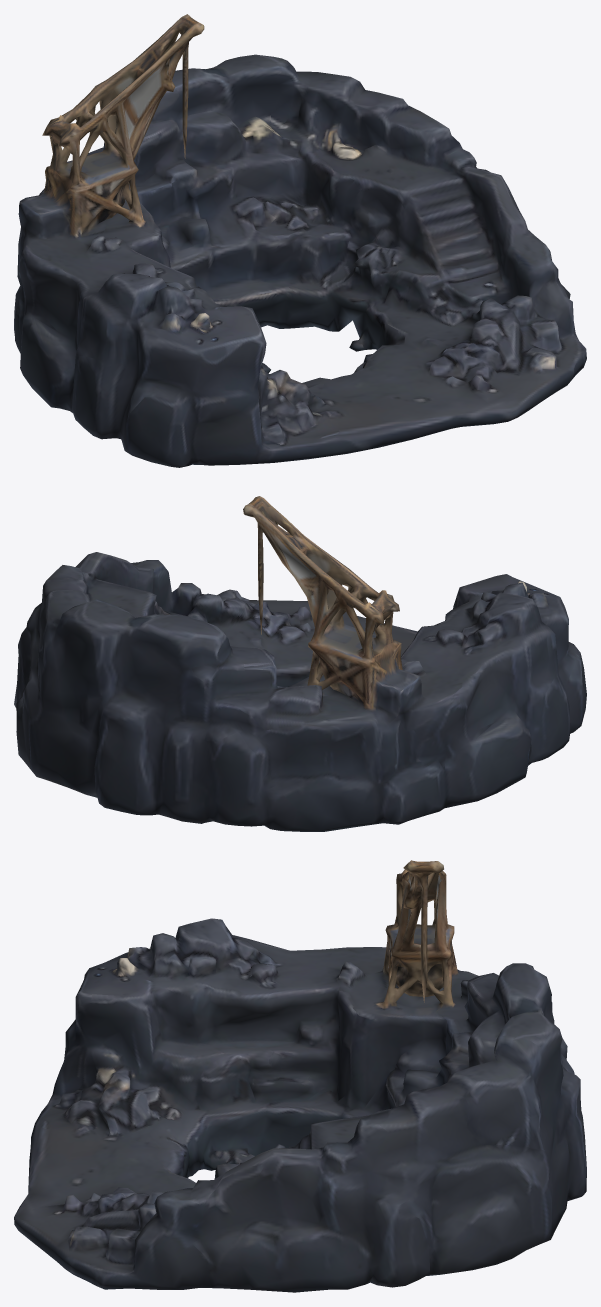
File: pedreira.glb
The picture shows the model from 3 angles, top to bottom: view 1: azimuth 30°, elevation 25°; view 2: azimuth 150°, elevation 25°; view 3: azimuth 270°, elevation 25°; orthographic projection. The views are drawn at different scales.
Visible parts, largest first — view 1: MineQuarryDiorama; view 2: MineQuarryDiorama; view 3: MineQuarryDiorama.
Part boxes in pixels (x1,y1,x2,y2): MineQuarryDiorama: (14, 14, 586, 467); MineQuarryDiorama: (14, 496, 586, 831); MineQuarryDiorama: (14, 860, 586, 1292).
Bounding box in the file's own units: 1.2 × 0.7572 × 1.2.
1 material, 1 textured.
